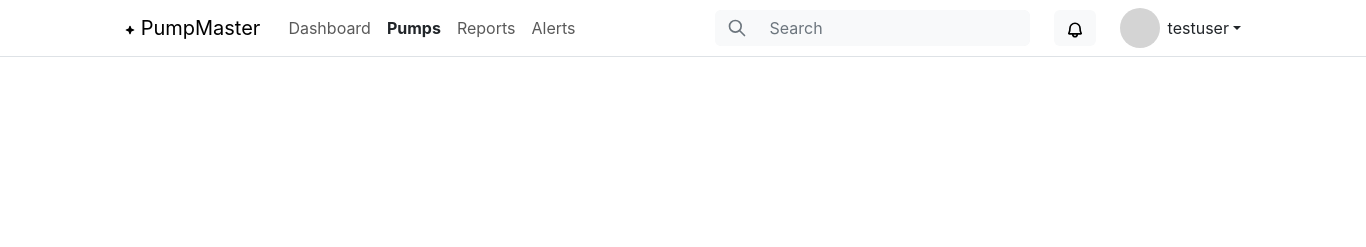
Navbar Component › Authenticated State › shows logout option in dropdown
Note: Click on user dropdown
What coordinates should you click on to do the following:
click the button "testuser"
I would click on:
 (1180, 28)
Its box is [1120, 8, 1241, 48].
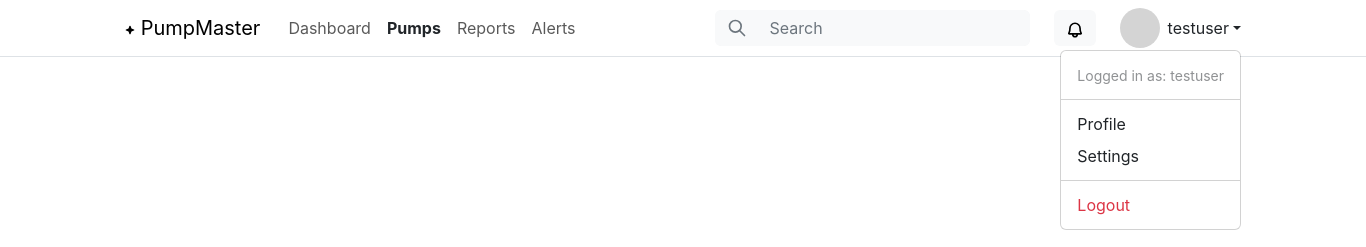
Check: the button "Logout" is shown, box [1077, 195, 1130, 215]
Check: the link "Profile" is shown, box [1077, 114, 1126, 134]
Check: the link "Settings" is shown, box [1077, 146, 1139, 166]
